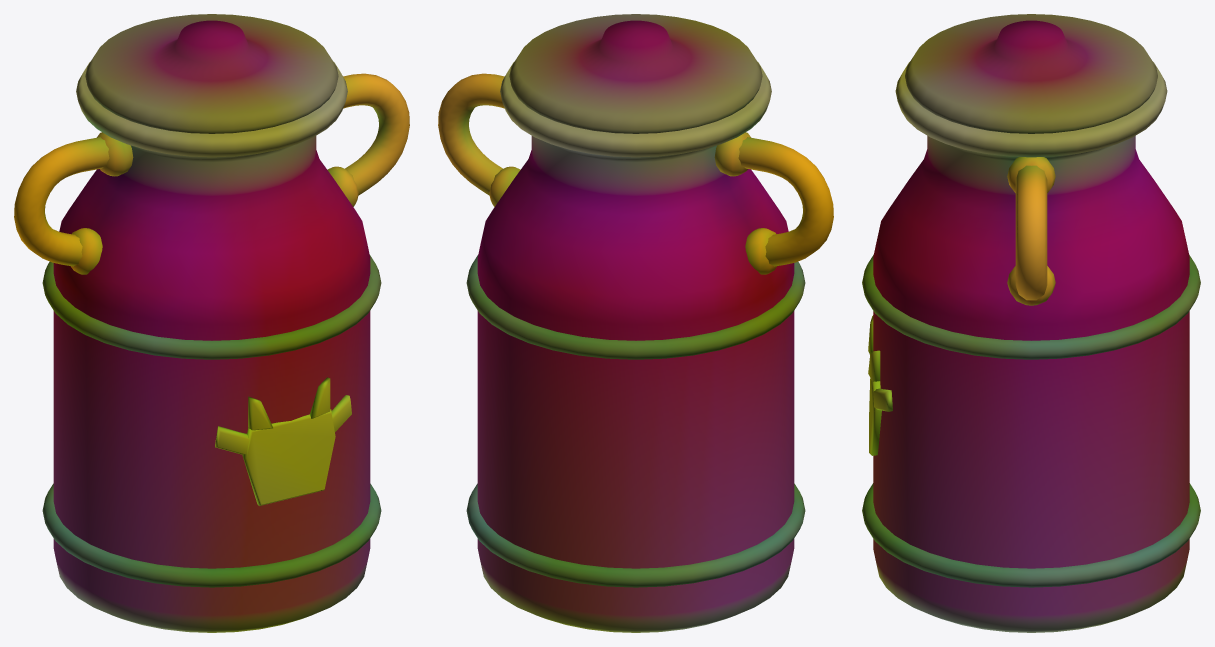
The model's file is Prop_MilkCan.fbx.
3 renders of one model, left to right at view 1: azimuth 30°, elevation 25°; view 2: azimuth 150°, elevation 25°; view 3: azimuth 270°, elevation 25°, orthographic.
Visible parts, largest first — view 1: MilkCan; view 2: MilkCan; view 3: MilkCan.
Boxes of the visible parts, left/top/right/bottom form: MilkCan: left=14, top=14, right=409, bottom=632; MilkCan: left=438, top=14, right=833, bottom=632; MilkCan: left=862, top=14, right=1200, bottom=632.
Bounding box in the file's own units: 0.4848 × 0.644 × 0.364.
